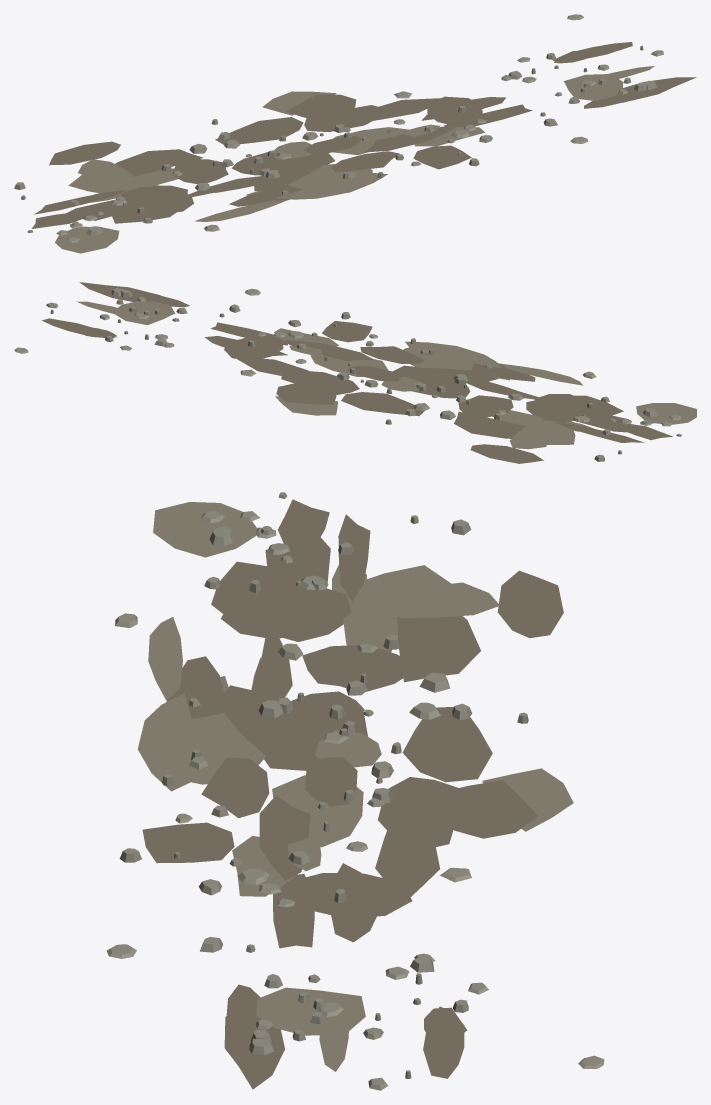
The model's file is DirtGravel_Transition.fbx.
The picture shows the model from 3 angles, top to bottom: view 1: azimuth 30°, elevation 25°; view 2: azimuth 150°, elevation 25°; view 3: azimuth 270°, elevation 25°; orthographic projection. The views are drawn at different scales.
Visible parts, largest first — view 1: DirtGravel_Transition; view 2: DirtGravel_Transition; view 3: DirtGravel_Transition.
Boxes of the visible parts, x1,y1,x2,y2 form: DirtGravel_Transition: (14,14,696,253); DirtGravel_Transition: (14,282,696,463); DirtGravel_Transition: (106,492,604,1090).
Size of the model in its own units: 376 by 2.58 by 133.
